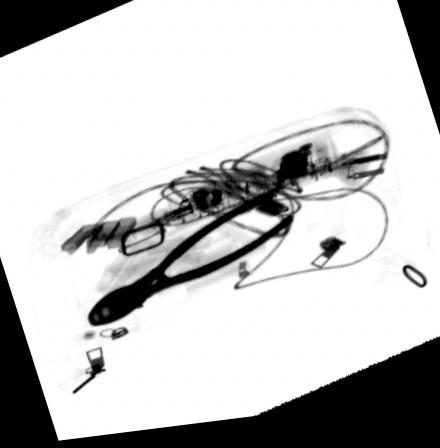Pliers: (86, 198, 296, 330)
